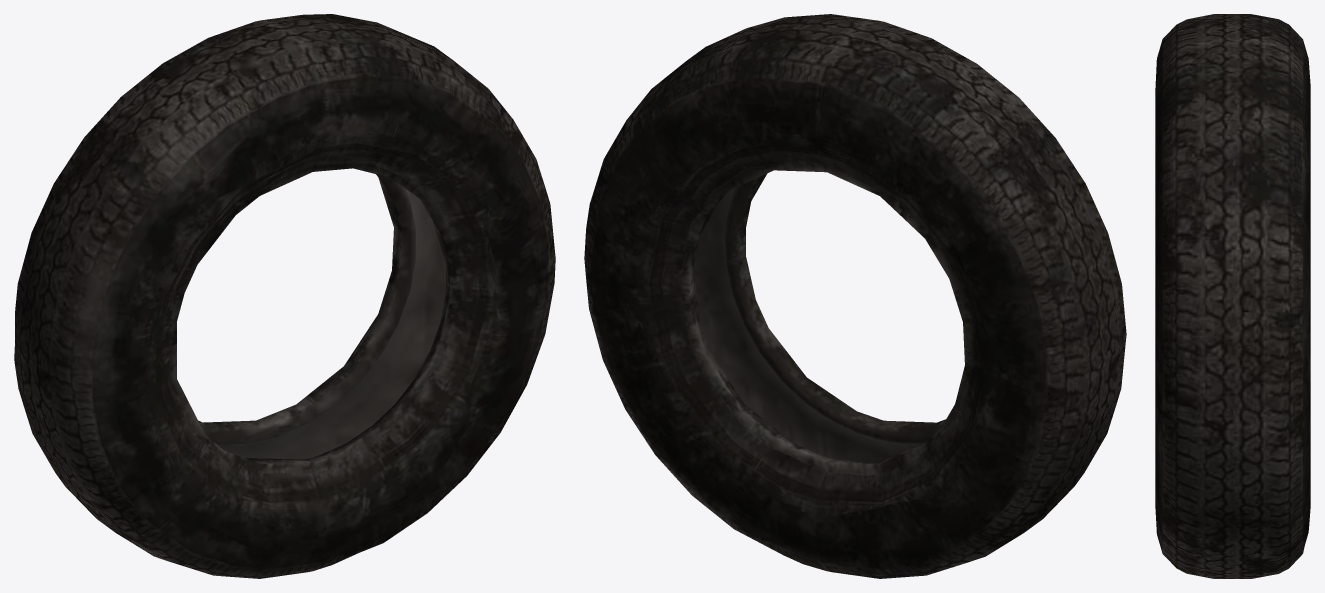
Rendered from old_tyre.glb.
The picture shows the model from 3 angles, left to right: view 1: azimuth 30°, elevation 25°; view 2: azimuth 150°, elevation 25°; view 3: azimuth 270°, elevation 25°; orthographic projection. The views are drawn at different scales.
Visible parts, largest first — view 1: old_tyre; view 2: old_tyre; view 3: old_tyre.
Boxes of the visible parts, x1,y1,x2,y2 form: old_tyre: (14,14,555,578); old_tyre: (584,14,1126,578); old_tyre: (1155,14,1310,578).
Bounding box in the file's own units: 0.6 × 0.6 × 0.165.
1 material, 1 textured.
